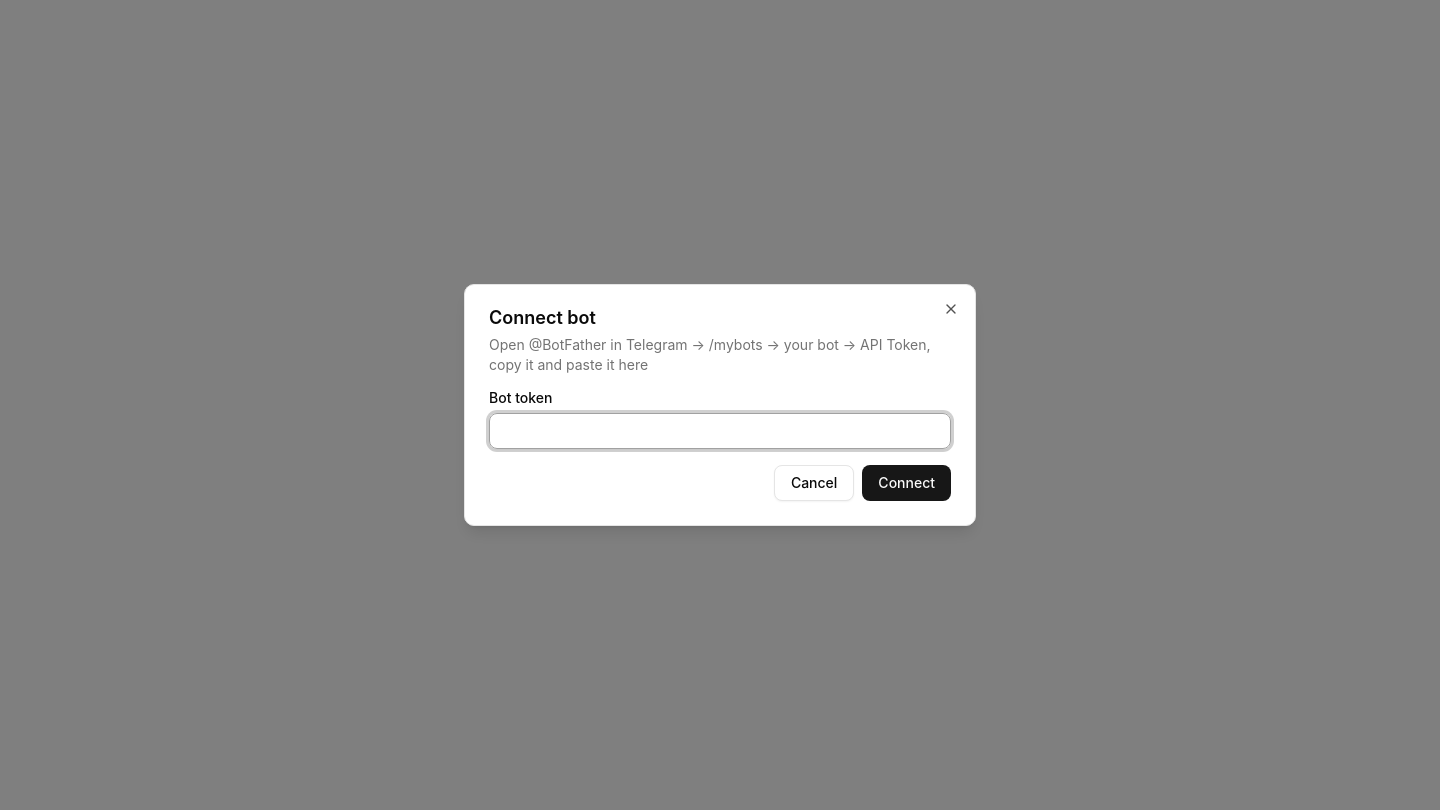
Test: PasteTokenDialog (SCR-03) › error: token not valid → alert with the server message, field cleared
Type "100000001:TEST-aaaaaaaaaaaaaaaaaaaaaaaaaaaaaaaaaaa" into the field labelled "Bot token" at (720, 431), box top-left (489, 413), bottom-right (951, 449)
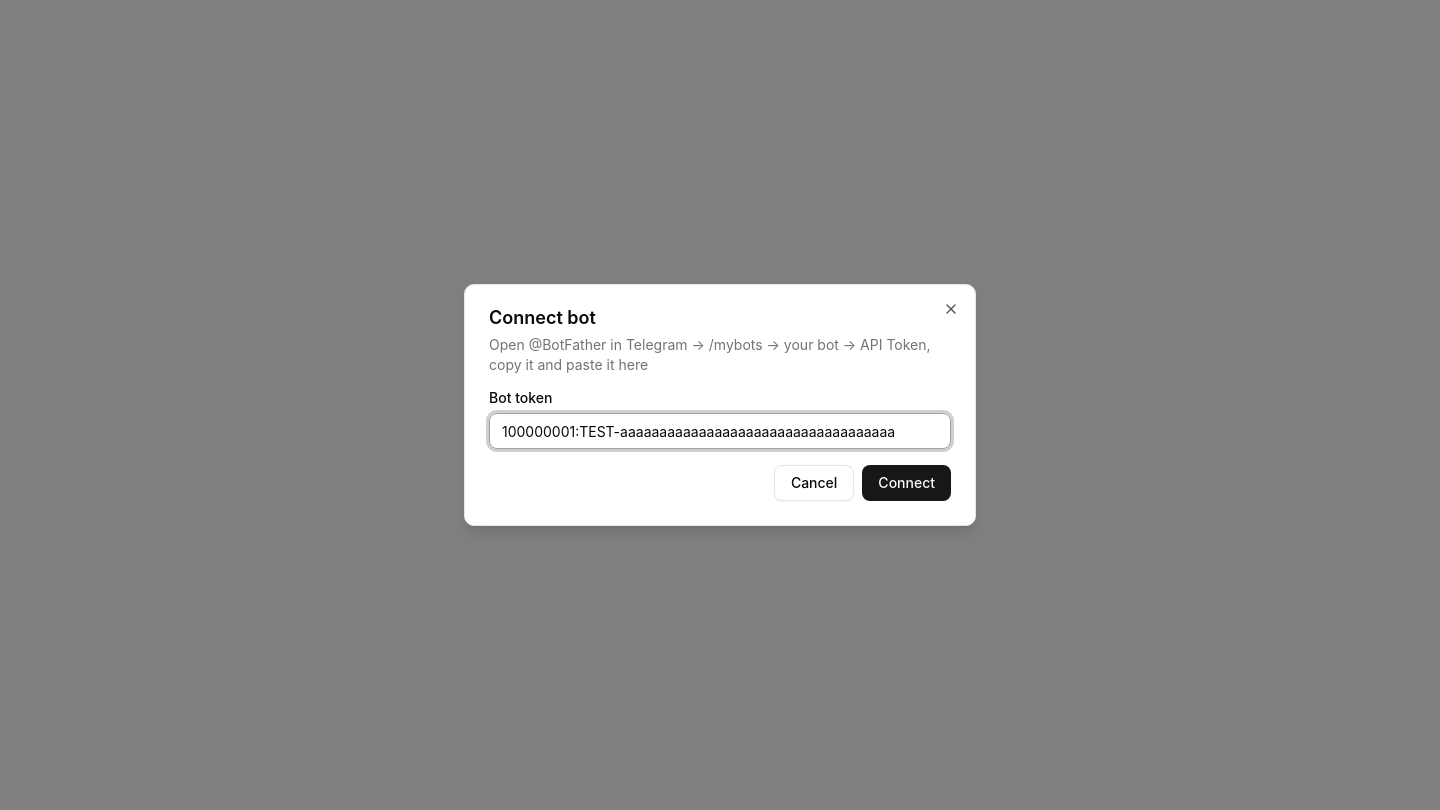
Click the button "Connect" at (907, 483), box top-left (862, 465), bottom-right (951, 501)
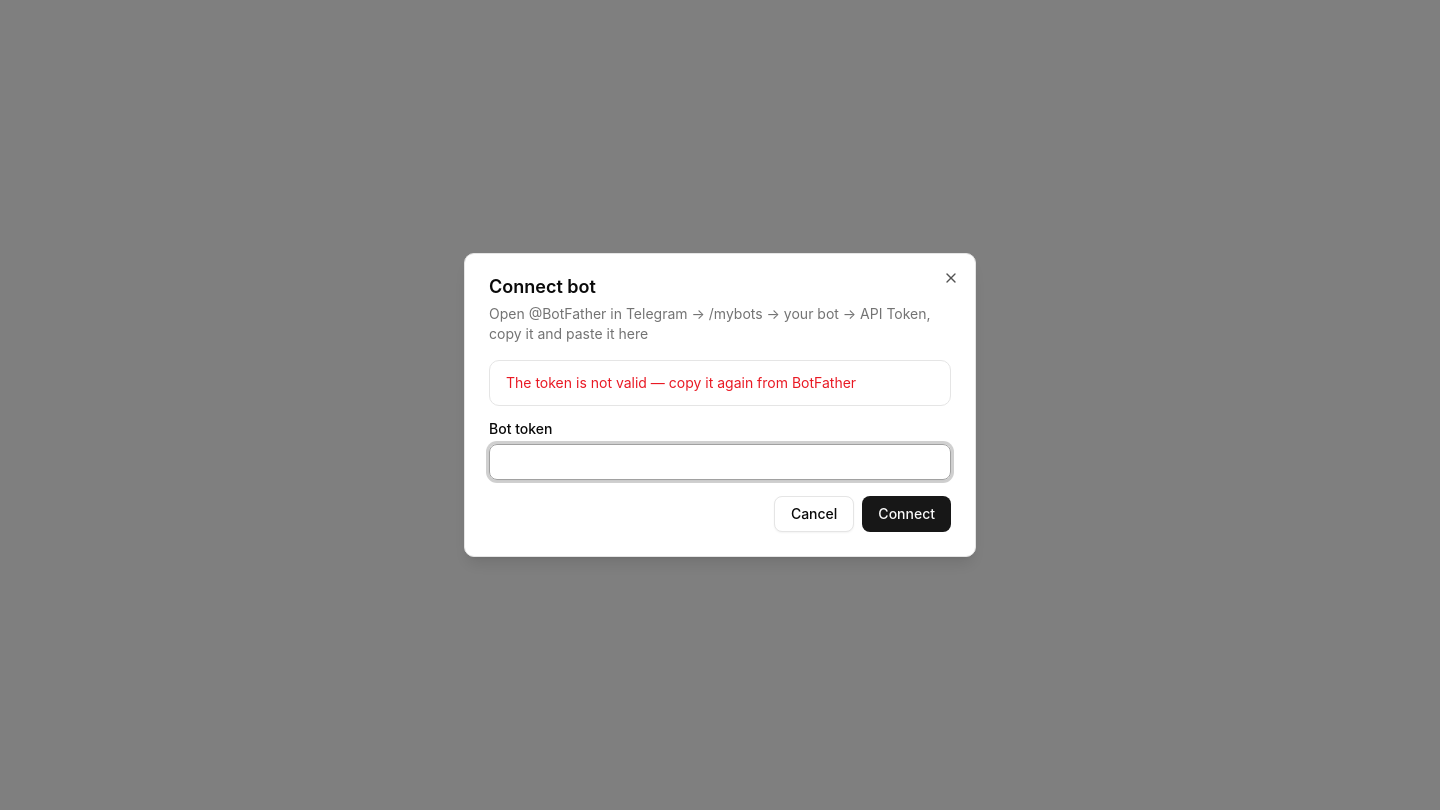
Check: the message reads "The token is not valid — copy it again from BotFather", box top-left (506, 374), bottom-right (856, 391)
Check: the field labelled "Bot token" is empty, box top-left (489, 444), bottom-right (951, 480)
